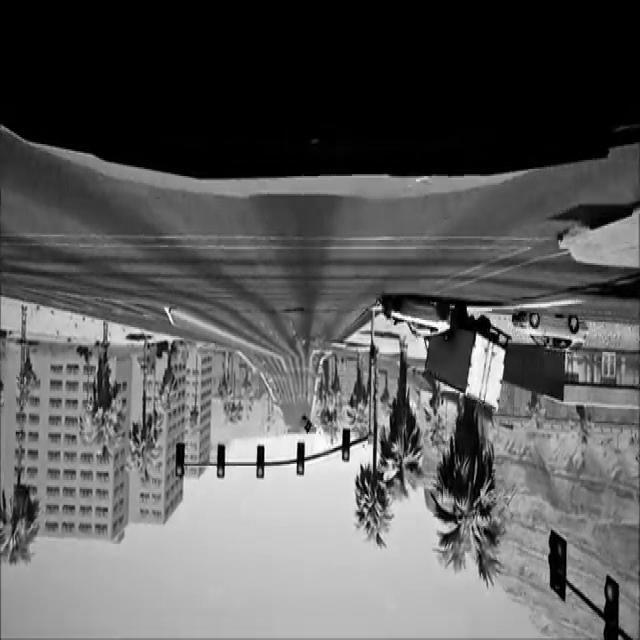severe: (378, 282, 512, 418)
